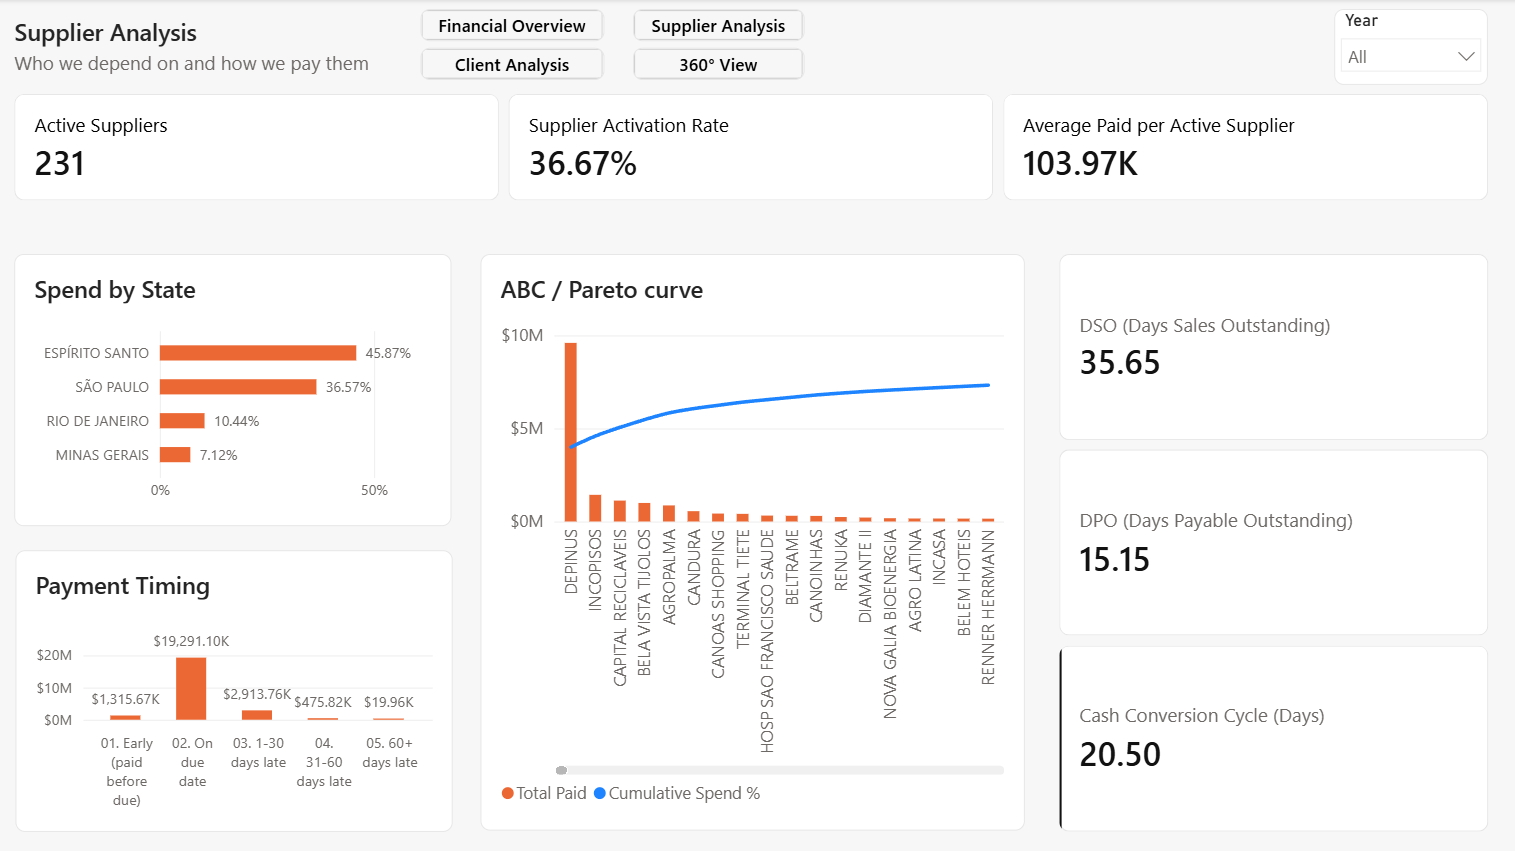

The dashboard page shown, as its layout file describes it:
{"tool":"powerbi","page":{"name":"Supplier Analysis","canvas":[1280,720],"ordinal":2},"visuals":[{"type":"cardVisual","title":"Supplier Analysis","fields":{"Data":["_measures.Active Suppliers","_measures.Supplier Activation Rate","_measures.Average Paid per Active Supplier"]},"box":[14,14,1243.7,156.9],"z":0},{"type":"actionButton","title":"Cash Position","box":[356.4,8.4,155,27.4],"z":1000},{"type":"actionButton","title":"Page 3","box":[535.7,8.4,144.5,27.4],"z":2000},{"type":"actionButton","title":"Page 4","box":[535.7,41.1,144.5,27.4],"z":3000},{"type":"actionButton","title":"Page 2","box":[356.4,41.1,155,27.4],"z":4000},{"type":"slicer","fields":{"Values":["dmDate.Year"]},"box":[1127.1,8.8,129.9,63.9],"z":5000},{"type":"lineStackedColumnComboChart","title":"ABC / Pareto curve","fields":{"Category":["dmSuppliers.Legal Name"],"Y":["_measures.Total Paid"],"Y2":["_measures.Cumulative Spend %"]},"box":[406.8,215.4,459.1,486.5],"z":6000},{"type":"clusteredColumnChart","title":"Payment Timing","fields":{"Category":["fcPayments.Payment Timing Bucket"],"Y":["_measures.Total Paid"]},"box":[14.4,465,369.2,237.8],"z":7000},{"type":"cardVisual","fields":{"Data":["_measures.DSO (Days)","_measures.DPO (Days)","_measures.Cash Conversion Cycle (Days)"]},"box":[895.5,215.6,362.6,487.6],"z":8000},{"type":"clusteredBarChart","title":"Spend by State","fields":{"Category":["dmSuppliers.State"],"Y":["_measures.% of Total Suppliers"]},"box":[13.9,215.4,368.8,229.4],"z":9000}]}

Visuals, with their boxes in screenshot pixels (x1, y1, x2, y2), scaled from the page's 1280x720 canvas onto the 1515x851 screenshot:
"Supplier Analysis" cardVisual: bbox=[17, 17, 1489, 202]
"Cash Position" actionButton: bbox=[422, 10, 605, 42]
"Page 3" actionButton: bbox=[634, 10, 805, 42]
"Page 4" actionButton: bbox=[634, 49, 805, 81]
"Page 2" actionButton: bbox=[422, 49, 605, 81]
slicer - dmDate.Year: bbox=[1334, 10, 1488, 86]
"ABC / Pareto curve" lineStackedColumnComboChart: bbox=[481, 255, 1025, 830]
"Payment Timing" clusteredColumnChart: bbox=[17, 550, 454, 831]
cardVisual - _measures.DSO (Days) x _measures.DPO (Days): bbox=[1060, 255, 1489, 831]
"Spend by State" clusteredBarChart: bbox=[16, 255, 453, 526]
